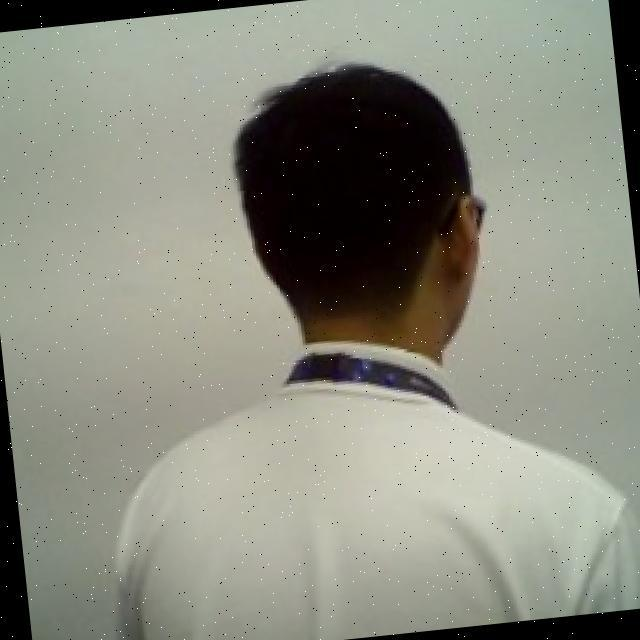no_gloves: (222, 44, 492, 374)
